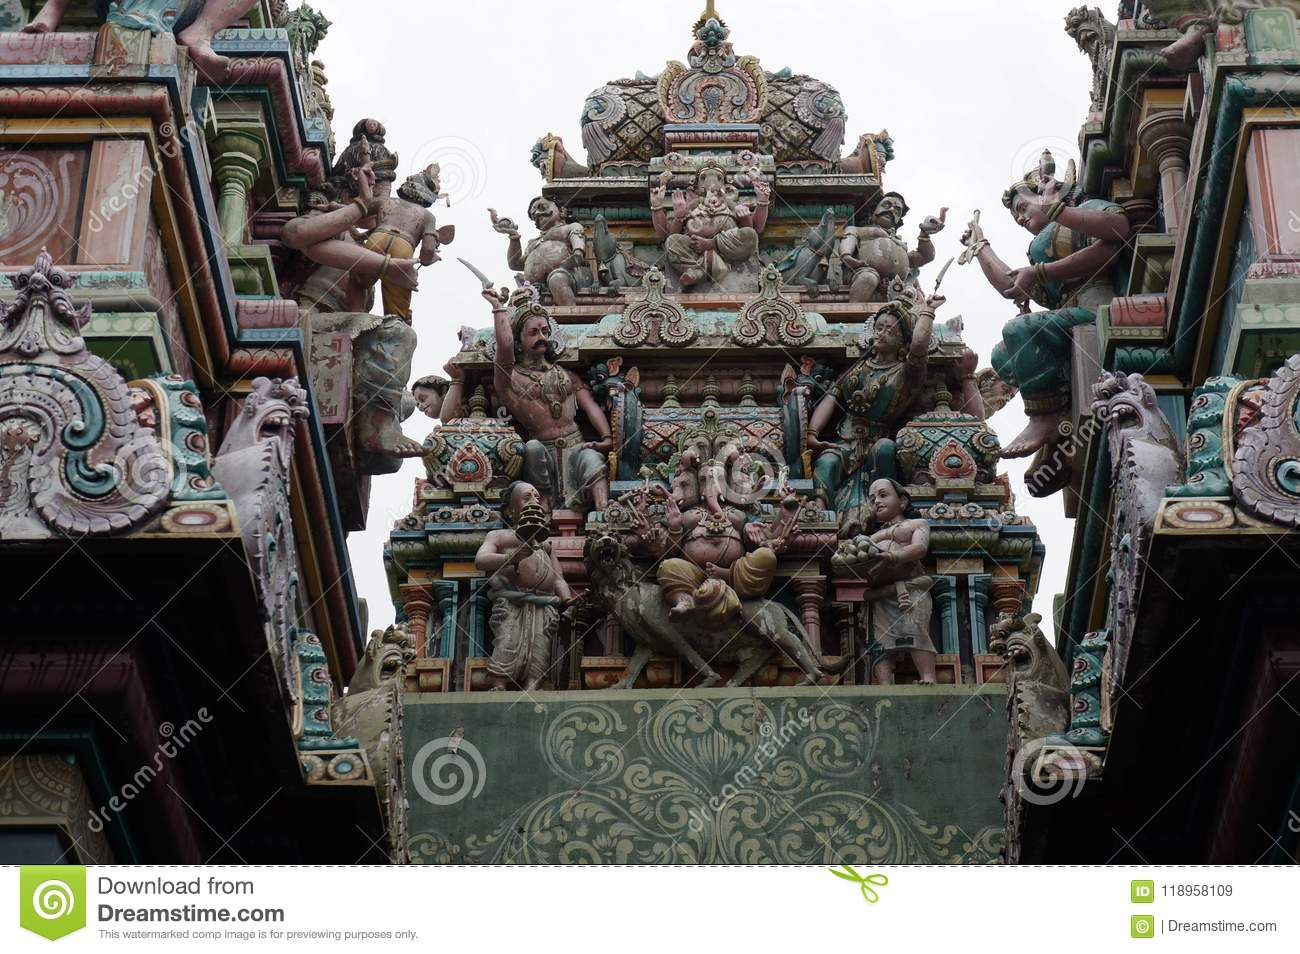Hindu Temple: (367, 44, 1012, 701)
